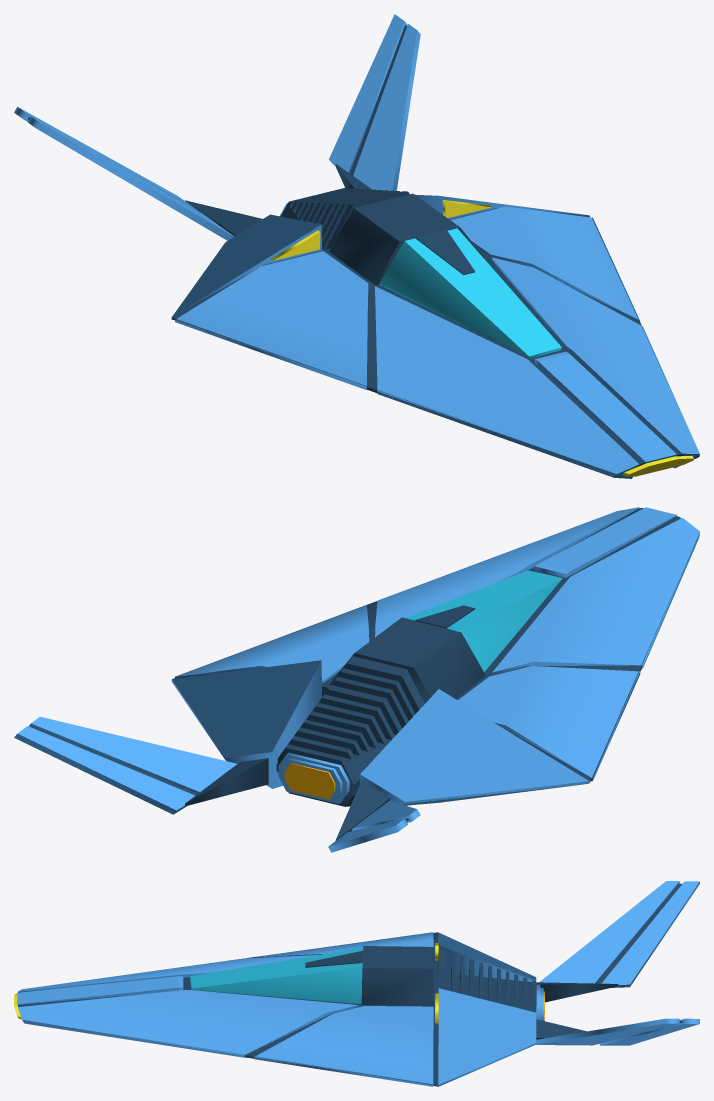
The model's file is MorphiOBJ.obj.
3 views of the same model, one above another, from view 1: azimuth 30°, elevation 25°; view 2: azimuth 150°, elevation 25°; view 3: azimuth 270°, elevation 25° (orthographic). The views are drawn at different scales.
Visible parts, largest first — view 1: MorphiObj16, MorphiObj15, MorphiObj17, MorphiObj2, MorphiObj14, MorphiObj6, MorphiObj20, MorphiObj12, MorphiObj18, MorphiObj27, MorphiObj7, MorphiObj23 (+6 smaller); view 2: MorphiObj16, MorphiObj12, MorphiObj15, MorphiObj13, MorphiObj23, MorphiObj17, MorphiObj2, MorphiObj20, MorphiObj14, MorphiObj6, MorphiObj7, MorphiObj18 (+11 smaller); view 3: MorphiObj17, MorphiObj14, MorphiObj13, MorphiObj2, MorphiObj20, MorphiObj8, MorphiObj23, MorphiObj9, MorphiObj18, MorphiObj16, MorphiObj12, MorphiObj6 (+9 smaller).
Boxes of the visible parts, x1=… form: MorphiObj16: x1=375, y1=286, x2=639, y2=478; MorphiObj15: x1=175, y1=251, x2=368, y2=390; MorphiObj17: x1=492, y1=257, x2=699, y2=468; MorphiObj2: x1=379, y1=228, x2=561, y2=358; MorphiObj14: x1=450, y1=206, x2=640, y2=321; MorphiObj6: x1=353, y1=24, x2=420, y2=191; MorphiObj20: x1=329, y1=193, x2=456, y2=280; MorphiObj12: x1=172, y1=214, x2=321, y2=319; MorphiObj18: x1=535, y1=351, x2=676, y2=463; MorphiObj27: x1=175, y1=217, x2=699, y2=468; MorphiObj7: x1=329, y1=14, x2=407, y2=173; MorphiObj23: x1=281, y1=188, x2=409, y2=250; MorphiObj16: x1=492, y1=518, x2=699, y2=674; MorphiObj12: x1=360, y1=689, x2=589, y2=805; MorphiObj15: x1=458, y1=666, x2=640, y2=781; MorphiObj13: x1=171, y1=660, x2=321, y2=788; MorphiObj23: x1=277, y1=656, x2=424, y2=790; MorphiObj17: x1=375, y1=507, x2=639, y2=637; MorphiObj2: x1=405, y1=570, x2=562, y2=672; MorphiObj20: x1=329, y1=620, x2=481, y2=703; MorphiObj14: x1=177, y1=605, x2=369, y2=683; MorphiObj6: x1=29, y1=716, x2=237, y2=793; MorphiObj7: x1=14, y1=726, x2=195, y2=814; MorphiObj18: x1=535, y1=507, x2=676, y2=577; MorphiObj17: x1=18, y1=990, x2=358, y2=1057; MorphiObj14: x1=254, y1=1006, x2=433, y2=1086; MorphiObj13: x1=438, y1=988, x2=536, y2=1086; MorphiObj2: x1=190, y1=947, x2=362, y2=1003; MorphiObj20: x1=367, y1=946, x2=433, y2=1006; MorphiObj8: x1=539, y1=881, x2=679, y2=983; MorphiObj23: x1=438, y1=948, x2=536, y2=1012; MorphiObj9: x1=601, y1=881, x2=699, y2=987; MorphiObj18: x1=17, y1=976, x2=183, y2=1004; MorphiObj16: x1=18, y1=955, x2=316, y2=991; MorphiObj12: x1=438, y1=932, x2=536, y2=982; MorphiObj6: x1=536, y1=1018, x2=679, y2=1045.
Bounding box in the file's own units: 42.91 × 14 × 81.38.
